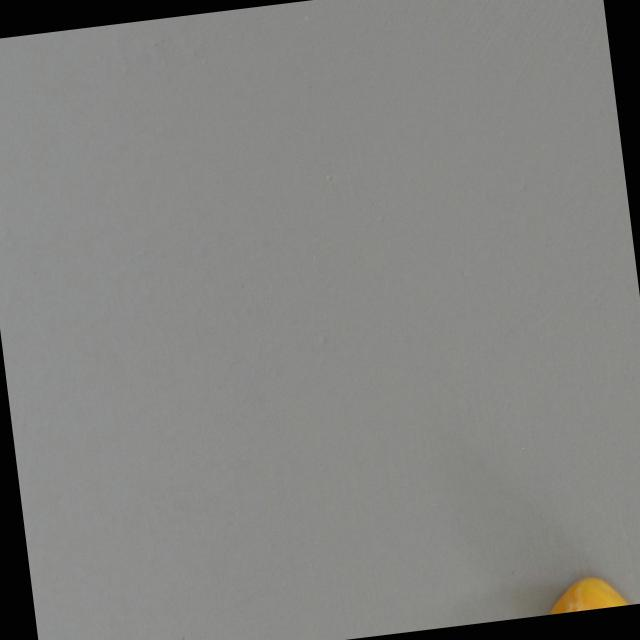no_desgerminado: (529, 569, 636, 616)
